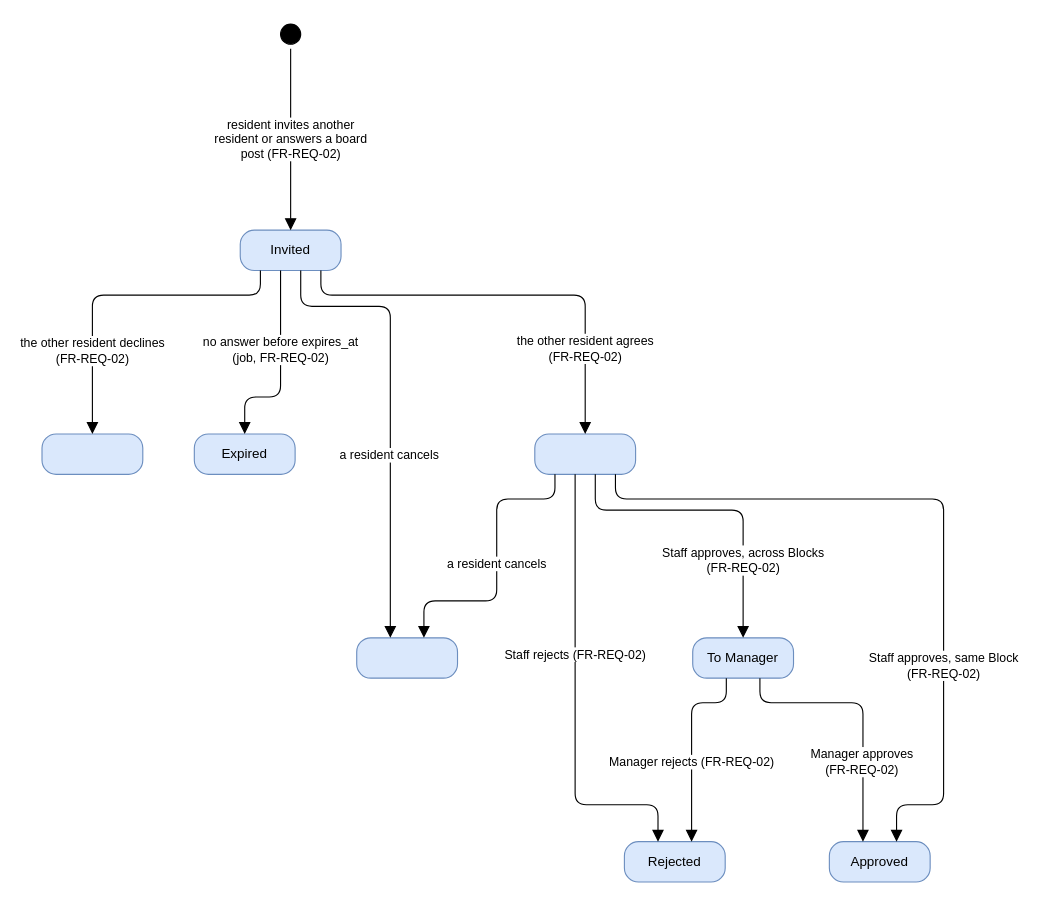
This 1037x902 diagram has some shape labels left out. The shapes that lost their labels are listed below. From the top down, each one's centre as x and y in pixels, then its label:
the point at 92,453: Declined
the point at 585,453: Pending
the point at 407,657: Cancelled
